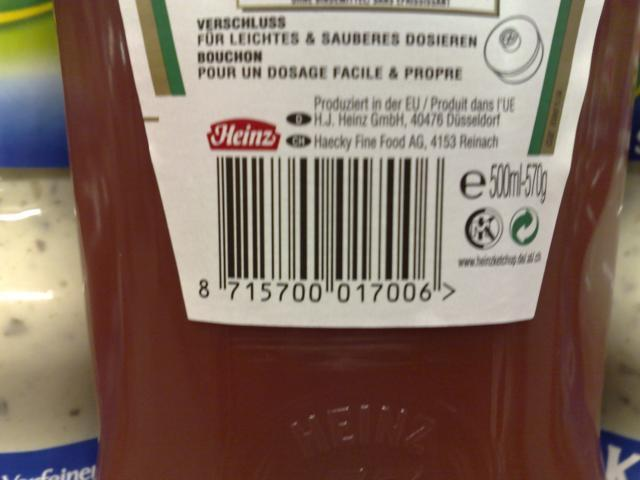Barcode: (188, 151, 462, 311)
